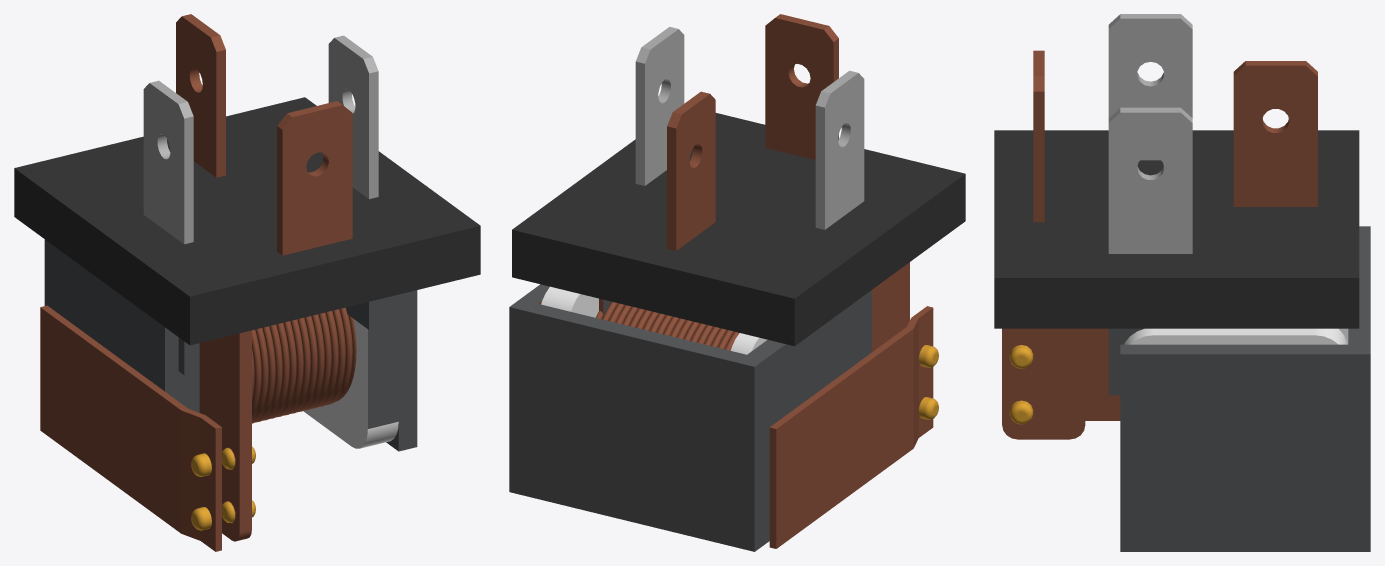
File: Relay - 1912-12V-100A.obj
The picture shows the model from 3 angles, left to right: view 1: azimuth 30°, elevation 25°; view 2: azimuth 150°, elevation 25°; view 3: azimuth 270°, elevation 25°; orthographic projection. The views are drawn at different scales.
Parts seen in each view (by area): view 1: Solid2, Solid1; view 2: Solid2, Solid1; view 3: Solid2, Solid1.
Part boxes in pixels (x1,y1,x2,y2): Solid2: (14,14,480,541); Solid1: (40,305,221,551); Solid2: (509,14,965,551); Solid1: (769,306,938,548); Solid2: (994,14,1370,551); Solid1: (1085,328,1120,420).
Bounding box in the file's own units: 26.36 × 34.76 × 28.43.
